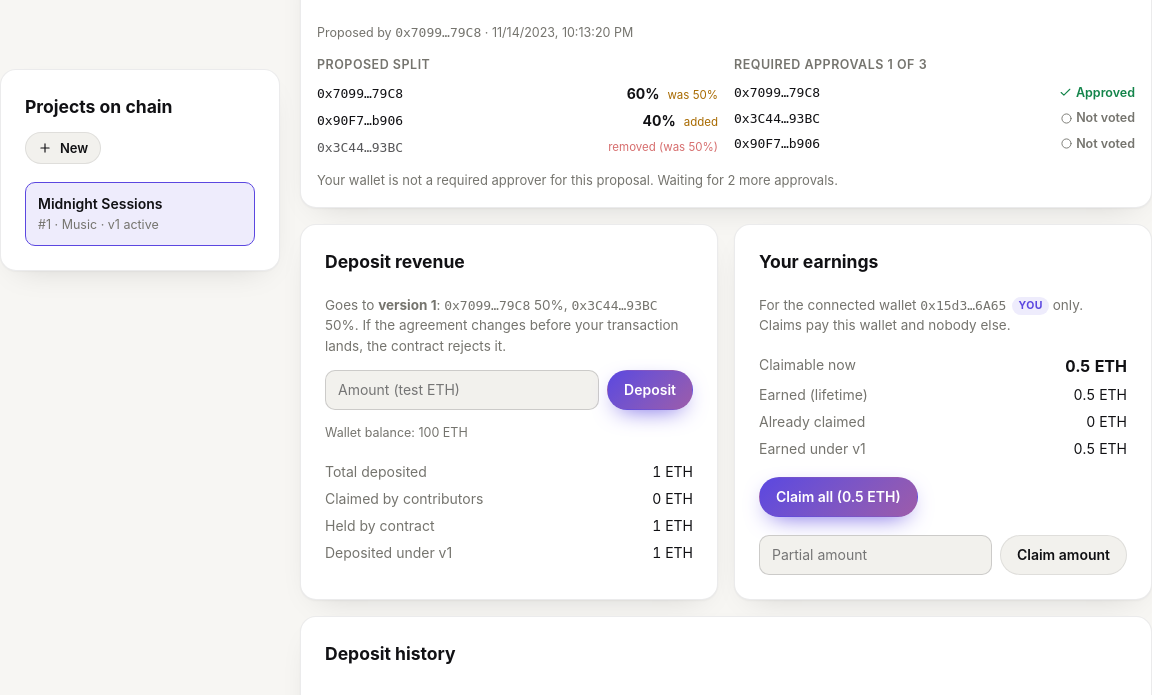
Test: live dashboard: revenue › rejects invalid deposit amounts
(page scrolled)
In the field named "deposit amount": {"x": 462, "y": 390} x1=325 y1=370 x2=599 y2=410, type "0"
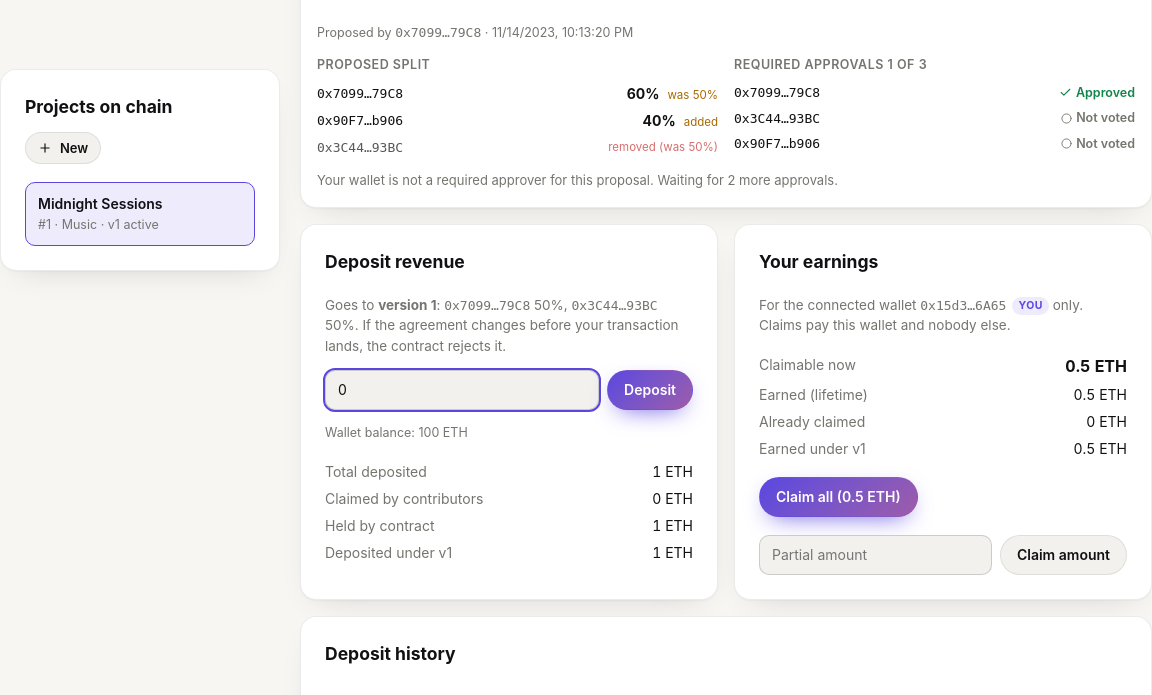
Click the button "Deposit": {"x": 650, "y": 390} x1=607 y1=370 x2=693 y2=410
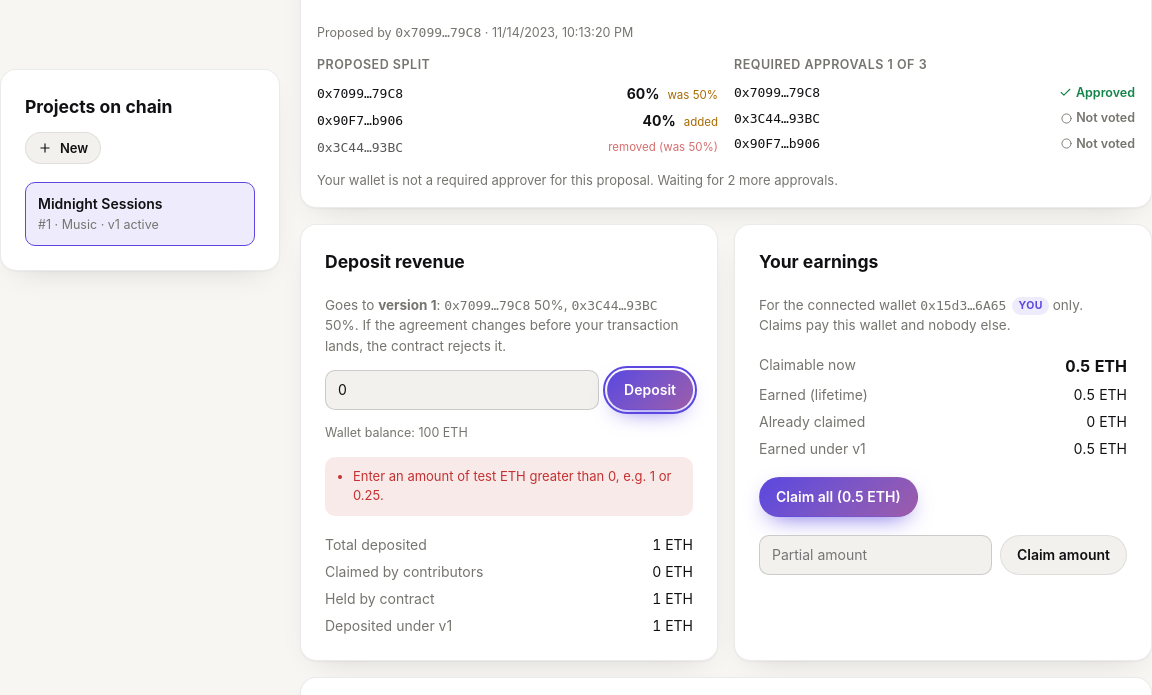
Now the list item "Enter an amount of test ETH greater than 0, e.g. 1 or 0.25." is shown, box x1=353 y1=467 x2=681 y2=506
